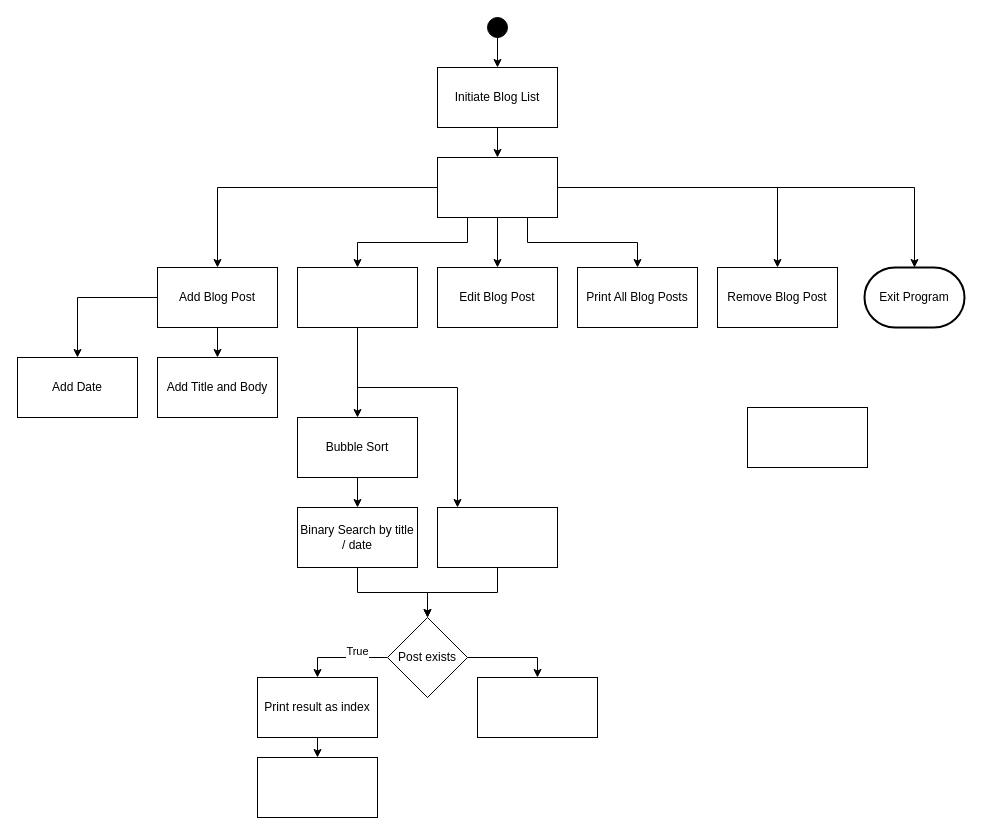
This 983x835 diagram has some shape labels left out. The shapes that lost their labels are listed below. From the top down, each one's centre as x and y in pixels, then its label:
At (497,187): "Print Menu".
At (357,297): "Search Blog Post".
At (807,437): "Select Blog post to edit".
At (497,537): "Linear Search by Keyword".
At (537,707): "Handle Error".
At (317,787): "Print Blog Post".
